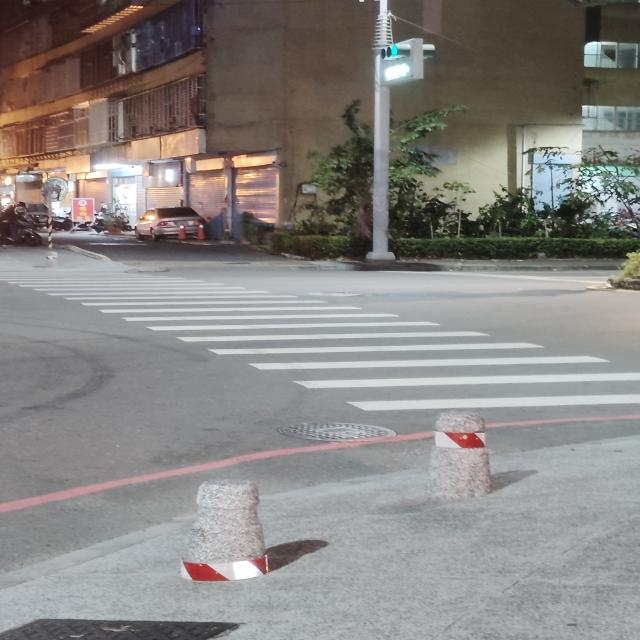zebra_crossing: (136, 132, 151, 409)
